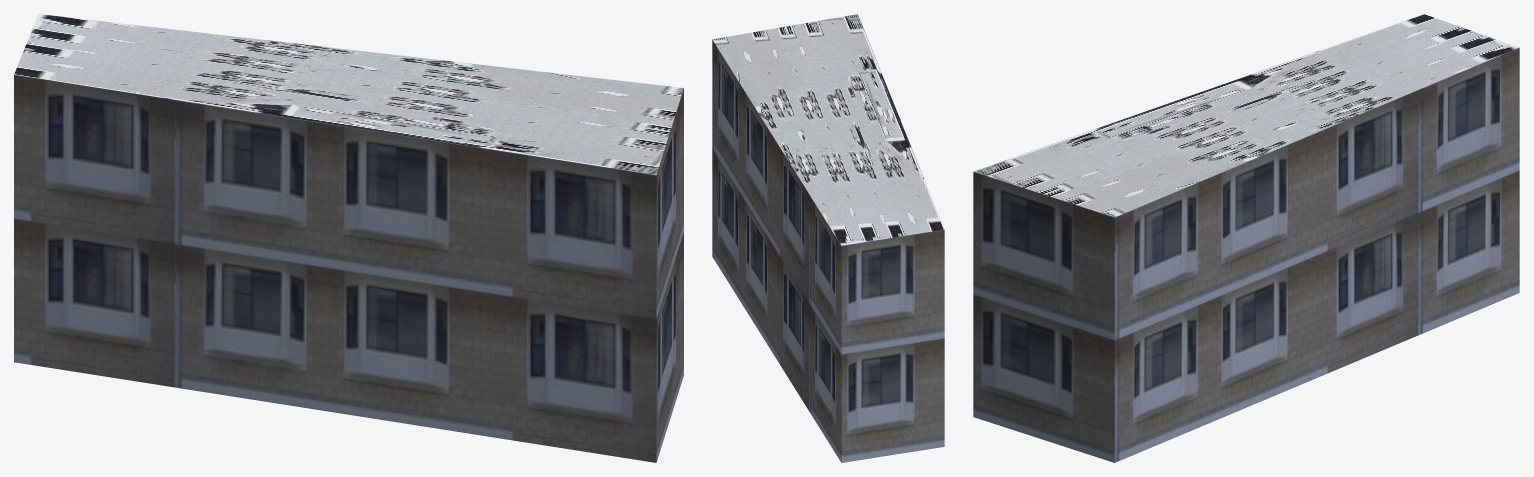
File: ResTex__1616.fbx
3 renders of one model, left to right at view 1: azimuth 30°, elevation 25°; view 2: azimuth 150°, elevation 25°; view 3: azimuth 270°, elevation 25°, orthographic. The views are drawn at different scales.
Visible parts, largest first — view 1: CityEngineMaterial_3_m, CityEngineMaterial_m; view 2: CityEngineMaterial_3_m, CityEngineMaterial_m; view 3: CityEngineMaterial_3_m, CityEngineMaterial_m.
Part boxes in pixels (x1=…): CityEngineMaterial_3_m: x1=14, y1=74, x2=683, y2=462; CityEngineMaterial_m: x1=14, y1=14, x2=683, y2=175; CityEngineMaterial_3_m: x1=712, y1=40, x2=944, y2=462; CityEngineMaterial_m: x1=712, y1=14, x2=944, y2=245; CityEngineMaterial_3_m: x1=973, y1=47, x2=1519, y2=462; CityEngineMaterial_m: x1=974, y1=14, x2=1518, y2=217.
Bounding box in the file's own units: 10.67 × 6 × 12.1.
Materials: 2 (2 with a texture image).
